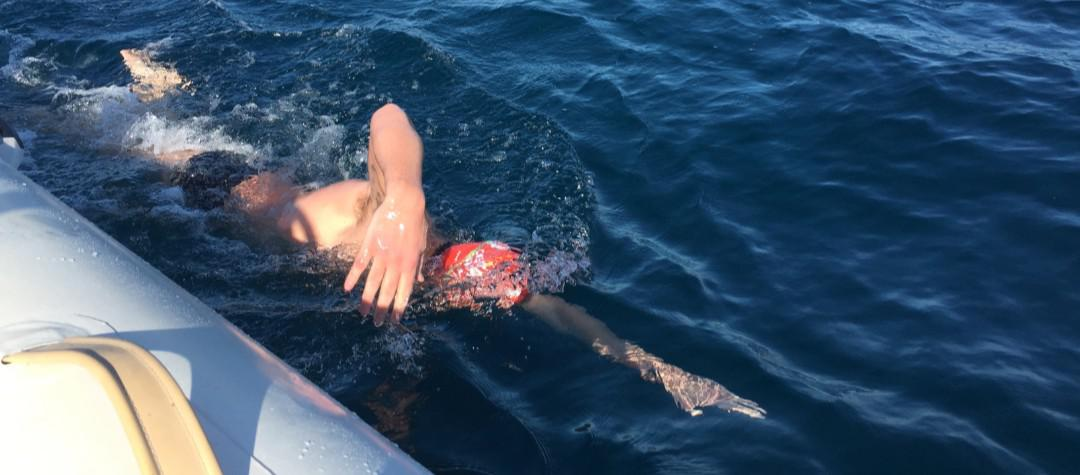human: (39, 36, 774, 432)
